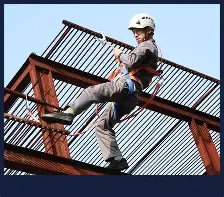safety belt: (120, 43, 163, 93)
